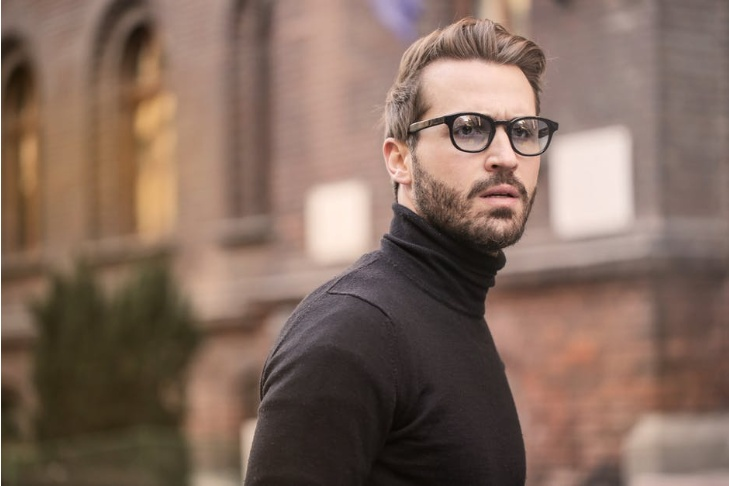face: (414, 59, 543, 249)
